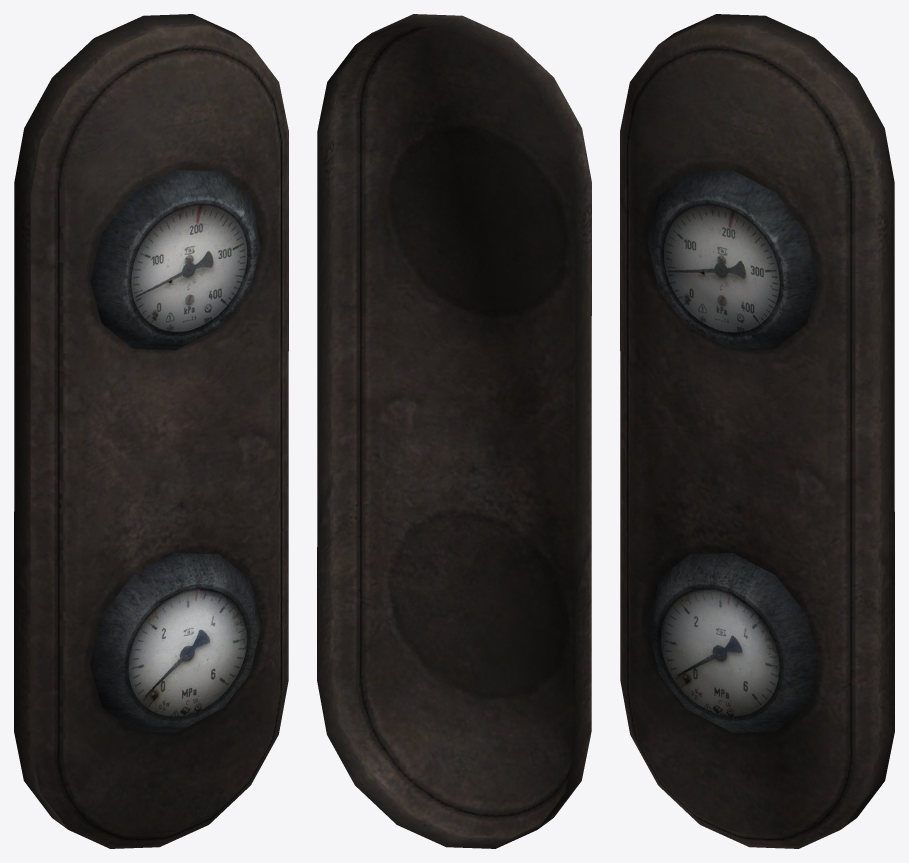
File: pressure_gauges_brown.dae
The picture shows the model from 3 angles, left to right: view 1: azimuth 30°, elevation 25°; view 2: azimuth 150°, elevation 25°; view 3: azimuth 330°, elevation 25°; orthographic projection.
Parts seen in each view (by area): view 1: polySurface135; view 2: polySurface135; view 3: polySurface135.
Part boxes in pixels (x1,y1,x2,y2): polySurface135: (14, 14, 288, 848); polySurface135: (317, 14, 591, 848); polySurface135: (620, 14, 894, 848).
Bounding box in the file's own units: 0.3097 × 0.9395 × 0.0938.
1 material, 1 textured.
